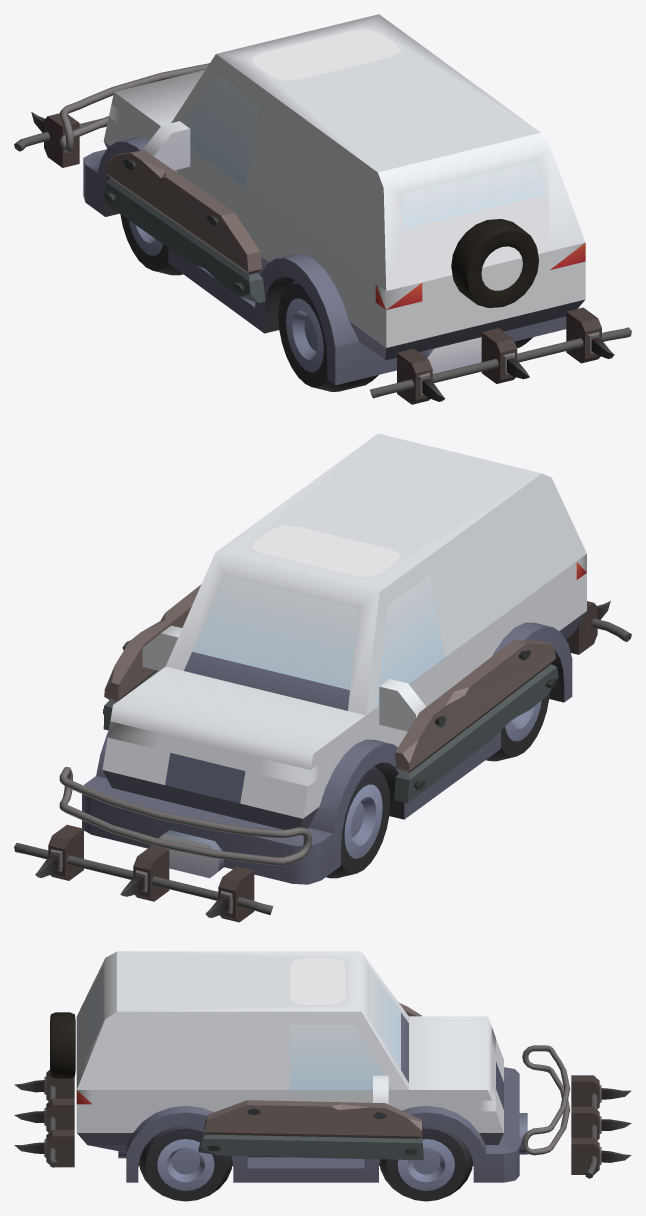
File: car_sentinel.glb
3 views of the same model, one above another, from view 1: azimuth 30°, elevation 25°; view 2: azimuth 150°, elevation 25°; view 3: azimuth 270°, elevation 25° (orthographic). The views are drawn at different scales.
Parts seen in each view (by area): view 1: body_mesh, armor_1_mesh, armor_2_mesh, armor_3_mesh, wheel_RL_mesh, wheel_FL_mesh; view 2: body_mesh, armor_1_mesh, armor_3_mesh, armor_2_mesh, wheel_FL_mesh, wheel_RL_mesh; view 3: body_mesh, armor_1_mesh, armor_3_mesh, armor_2_mesh, wheel_RR_mesh, wheel_FR_mesh.
Boxes of the visible parts, x1,y1,x2,y2 form: body_mesh: (83,14,585,385); armor_1_mesh: (104,150,265,302); armor_2_mesh: (60,63,631,404); armor_3_mesh: (14,112,538,307); wheel_RL_mesh: (278,280,378,391); wheel_FL_mesh: (120,214,182,275); body_mesh: (82,433,586,884); armor_1_mesh: (103,584,558,803); armor_3_mesh: (14,824,273,922); armor_2_mesh: (59,601,631,865); wheel_FL_mesh: (326,766,390,878); wheel_RL_mesh: (486,693,549,761); body_mesh: (76,951,527,1182); armor_1_mesh: (198,1003,423,1160); armor_3_mesh: (50,1012,631,1178); armor_2_mesh: (14,1045,570,1167); wheel_RR_mesh: (139,1125,232,1201); wheel_FR_mesh: (379,1125,472,1201).
Size of the model in its own units: 2.65 by 1.96 by 5.9.
3 materials, 2 textured.
